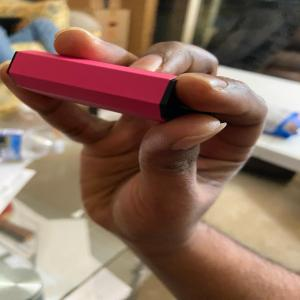Blume-E-Ciggirate: (8, 48, 182, 122)
